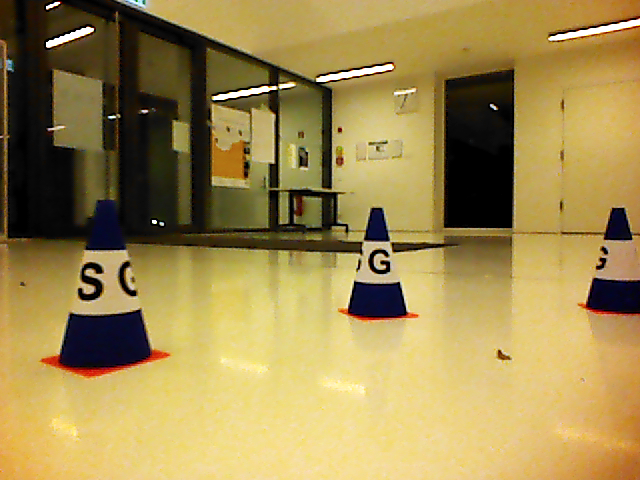bluecone: (59, 198, 153, 368), (351, 206, 409, 319), (587, 206, 640, 316)
